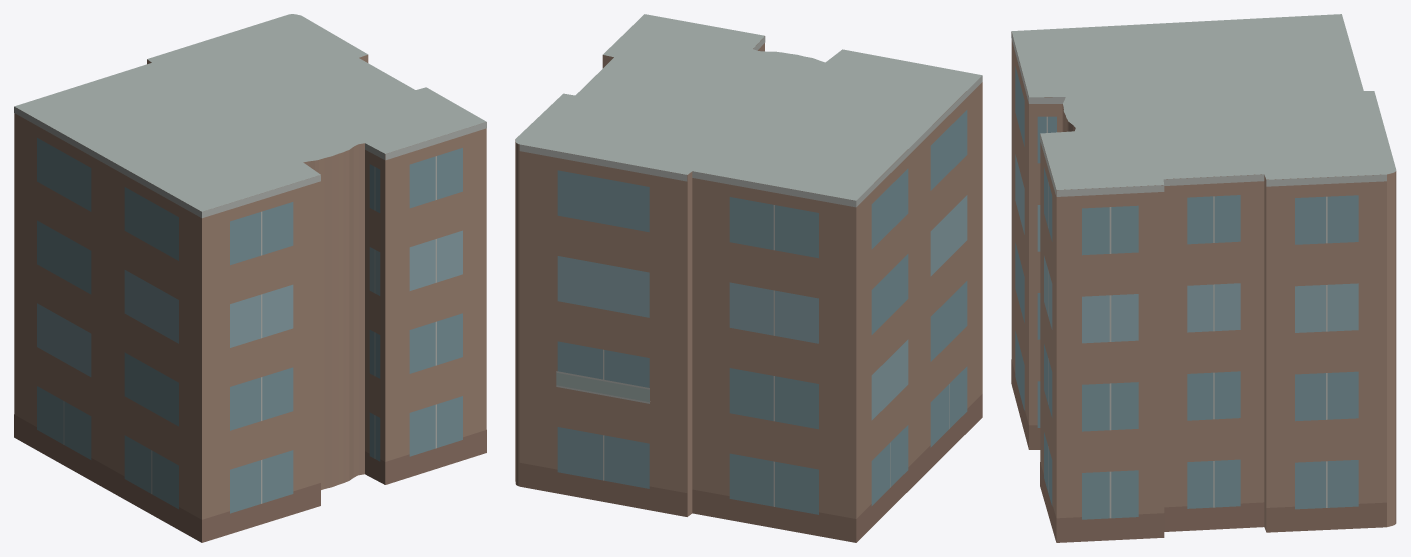
Rendered from survey-upis-32988853.glb.
3 renders of one model, left to right at view 1: azimuth 30°, elevation 25°; view 2: azimuth 150°, elevation 25°; view 3: azimuth 270°, elevation 25°, orthographic. The views are drawn at different scales.
Parts seen in each view (by area): view 1: survey-upis-32988853.tmp; view 2: survey-upis-32988853.tmp; view 3: survey-upis-32988853.tmp.
Part boxes in pixels (x1,y1,x2,y2): survey-upis-32988853.tmp: (14,14,486,542); survey-upis-32988853.tmp: (515,14,982,542); survey-upis-32988853.tmp: (1011,14,1396,542).
Size of the model in its own units: 13.4 by 12.5 by 12.37.
